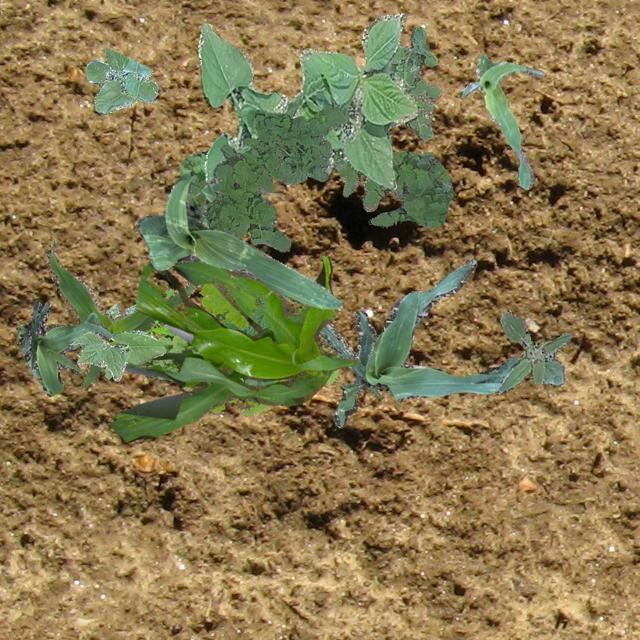crop: (109, 254, 358, 442), (196, 12, 416, 188), (317, 258, 517, 427), (136, 172, 340, 310), (42, 238, 196, 388), (459, 52, 544, 188), (15, 298, 111, 396), (214, 274, 284, 384), (84, 46, 156, 114), (68, 330, 164, 380)
weed: (186, 104, 346, 250), (198, 280, 336, 414), (330, 150, 452, 227), (144, 310, 224, 390), (498, 310, 570, 392), (390, 25, 440, 138), (104, 302, 136, 378), (178, 150, 208, 222), (144, 288, 174, 338)
